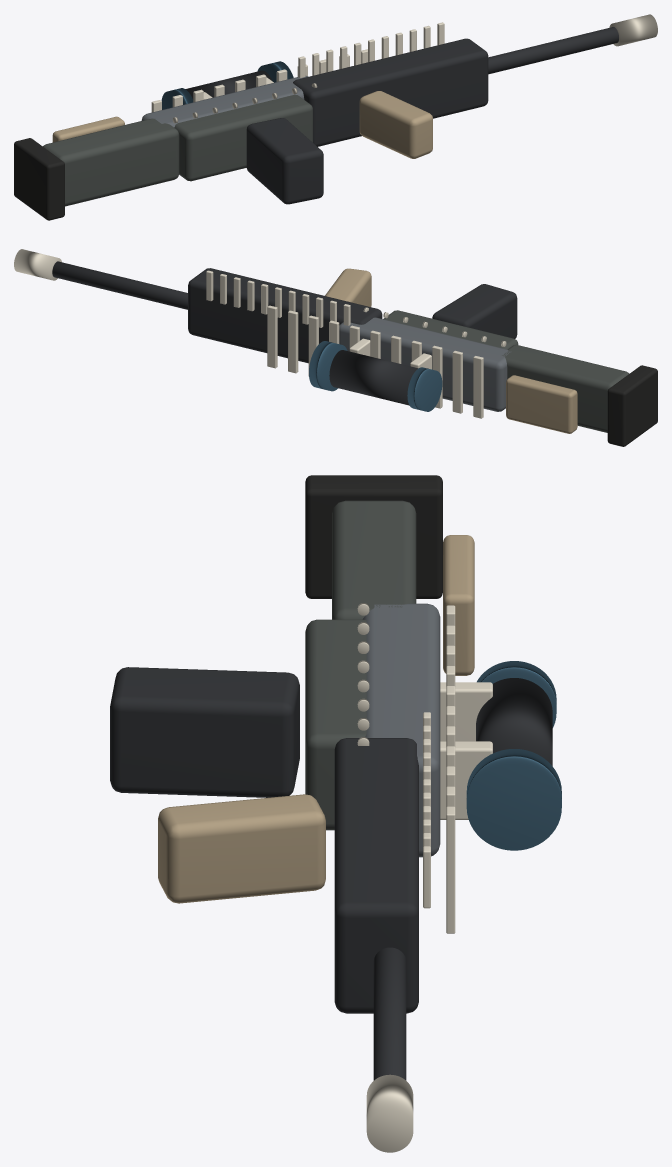
The model's file is dmr_m5_candidate.glb.
The picture shows the model from 3 angles, top to bottom: view 1: azimuth 30°, elevation 25°; view 2: azimuth 150°, elevation 25°; view 3: azimuth 270°, elevation 25°; orthographic projection. The views are drawn at different scales.
Parts seen in each view (by area): view 1: freefloat_handguard, precision_stock, dmr_receiver_lower, box_magazine, angled_grip, rubber_butt_pad, dmr_receiver_upper, match_barrel, muzzle_brake_two_port, adjustable_cheek_riser, scope_body, scope_rear_lens (+1 smaller); view 2: freefloat_handguard, dmr_receiver_upper, precision_stock, rubber_butt_pad, adjustable_cheek_riser, scope_body, box_magazine, match_barrel, dmr_receiver_lower, angled_grip, scope_rear_lens, scope_front_lens (+7 smaller); view 3: box_magazine, freefloat_handguard, angled_grip, dmr_receiver_upper, precision_stock, dmr_receiver_lower, rubber_butt_pad, scope_front_lens, scope_body, match_barrel, adjustable_cheek_riser, muzzle_brake_two_port (+4 smaller).
Boxes of the visible parts, x1,y1,x2,y2 form: freefloat_handguard: (293, 38, 488, 146); precision_stock: (43, 118, 179, 206); dmr_receiver_lower: (174, 94, 312, 181); box_magazine: (246, 118, 323, 204); angled_grip: (359, 91, 432, 158); rubber_butt_pad: (14, 138, 64, 220); dmr_receiver_upper: (141, 76, 308, 127); match_barrel: (488, 27, 618, 74); muzzle_brake_two_port: (609, 14, 657, 46); adjustable_cheek_riser: (52, 116, 124, 142); scope_body: (185, 70, 272, 99); scope_rear_lens: (161, 88, 193, 109); freefloat_handguard: (188, 268, 382, 363); dmr_receiver_upper: (339, 317, 511, 411); precision_stock: (502, 345, 629, 432); rubber_butt_pad: (607, 365, 657, 446); adjustable_cheek_riser: (506, 375, 577, 433); scope_body: (329, 350, 418, 405); box_magazine: (432, 284, 517, 338); match_barrel: (52, 261, 187, 309); dmr_receiver_lower: (383, 310, 518, 349); angled_grip: (325, 268, 371, 306); scope_rear_lens: (407, 367, 442, 411); scope_front_lens: (309, 341, 347, 391); box_magazine: (110, 667, 299, 797); freefloat_handguard: (334, 738, 418, 1013); angled_grip: (158, 794, 325, 903); dmr_receiver_upper: (362, 603, 440, 857); precision_stock: (332, 500, 416, 619); dmr_receiver_lower: (305, 619, 366, 830); rubber_butt_pad: (305, 475, 442, 598); scope_front_lens: (466, 749, 561, 850); scope_body: (476, 678, 552, 765); match_barrel: (373, 947, 406, 1080); adjustable_cheek_riser: (443, 535, 474, 675); muzzle_brake_two_port: (366, 1074, 413, 1152).
Size of what is drawn, in the model's own units: 5.4 by 0.62 by 1.71.
